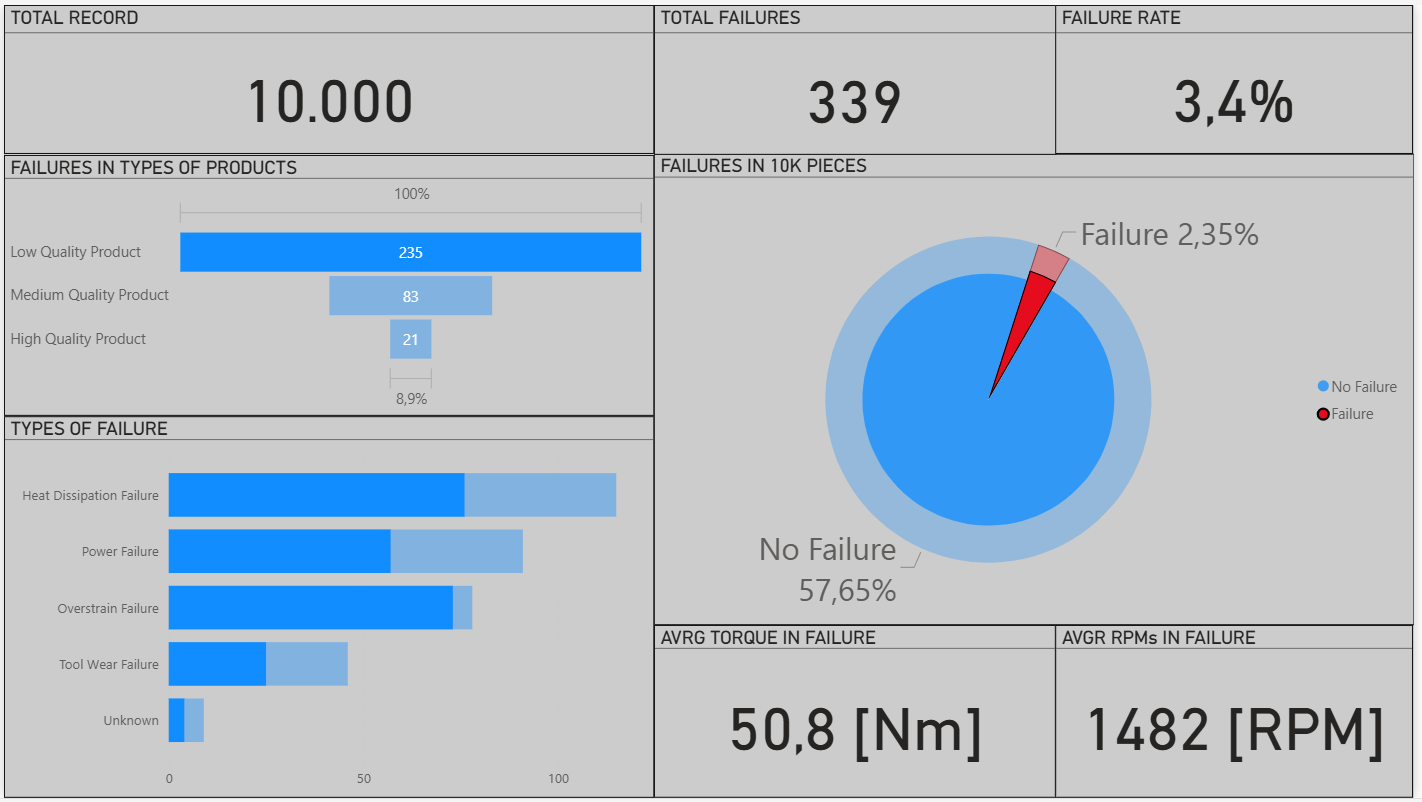

The page's visual inventory and layout, read from the dashboard file:
{"tool":"powerbi","page":{"name":"Página 1","canvas":[1280,720],"ordinal":0},"visuals":[{"type":"pieChart","title":"FAILURES IN 10K PIECES","fields":{"Category":["maintenance predictive_maintenance.failure_flag"],"Y":["CountNonNull(maintenance predictive_maintenance.failure_flag)"]},"box":[590,135,690,428.3],"z":0},{"type":"barChart","title":"TYPES OF FAILURE","fields":{"Category":["maintenance predictive_maintenance.failure_label"],"Y":["CountNonNull(maintenance predictive_maintenance.failure_label)"]},"box":[0,373.3,590,346.7],"z":1000},{"type":"funnel","title":"FAILURES IN TYPES OF PRODUCTS","fields":{"Category":["ref_product_type.description"],"Y":["maintenance predictive_maintenance.Total Failures"]},"box":[0,135.7,590,237.1],"z":2000},{"type":"card","title":"TOTAL RECORD","fields":{"Values":["maintenance predictive_maintenance.Total Records"]},"box":[0,0,590,135],"z":3000},{"type":"card","title":"TOTAL FAILURES","fields":{"Values":["maintenance predictive_maintenance.Total Failures"]},"box":[590,0,365.7,135.7],"z":4000},{"type":"card","title":"FAILURE RATE","fields":{"Values":["maintenance predictive_maintenance.Failure Rate %"]},"box":[955,0,325,135],"z":5000},{"type":"card","title":"AVRG TORQUE IN FAILURE","fields":{"Values":["maintenance predictive_maintenance.Avg Torque on Failure"]},"box":[590,563.3,365,156.7],"z":6000},{"type":"card","title":"AVGR RPMs IN FAILURE","fields":{"Values":["maintenance predictive_maintenance.Avg RPMs on Failure"]},"box":[955,563.3,325,156.7],"z":7000}]}

Visuals, with their boxes in screenshot pixels (x1, y1, x2, y2), scaled from the page's 1280x720 canvas onto the 1422x802 screenshot:
"FAILURES IN 10K PIECES" pieChart: bbox(655, 150, 1421, 627)
"TYPES OF FAILURE" barChart: bbox(0, 416, 655, 801)
"FAILURES IN TYPES OF PRODUCTS" funnel: bbox(0, 151, 655, 415)
"TOTAL RECORD" card: bbox(0, 0, 655, 150)
"TOTAL FAILURES" card: bbox(655, 0, 1062, 151)
"FAILURE RATE" card: bbox(1061, 0, 1421, 150)
"AVRG TORQUE IN FAILURE" card: bbox(655, 627, 1061, 801)
"AVGR RPMs IN FAILURE" card: bbox(1061, 627, 1421, 801)
